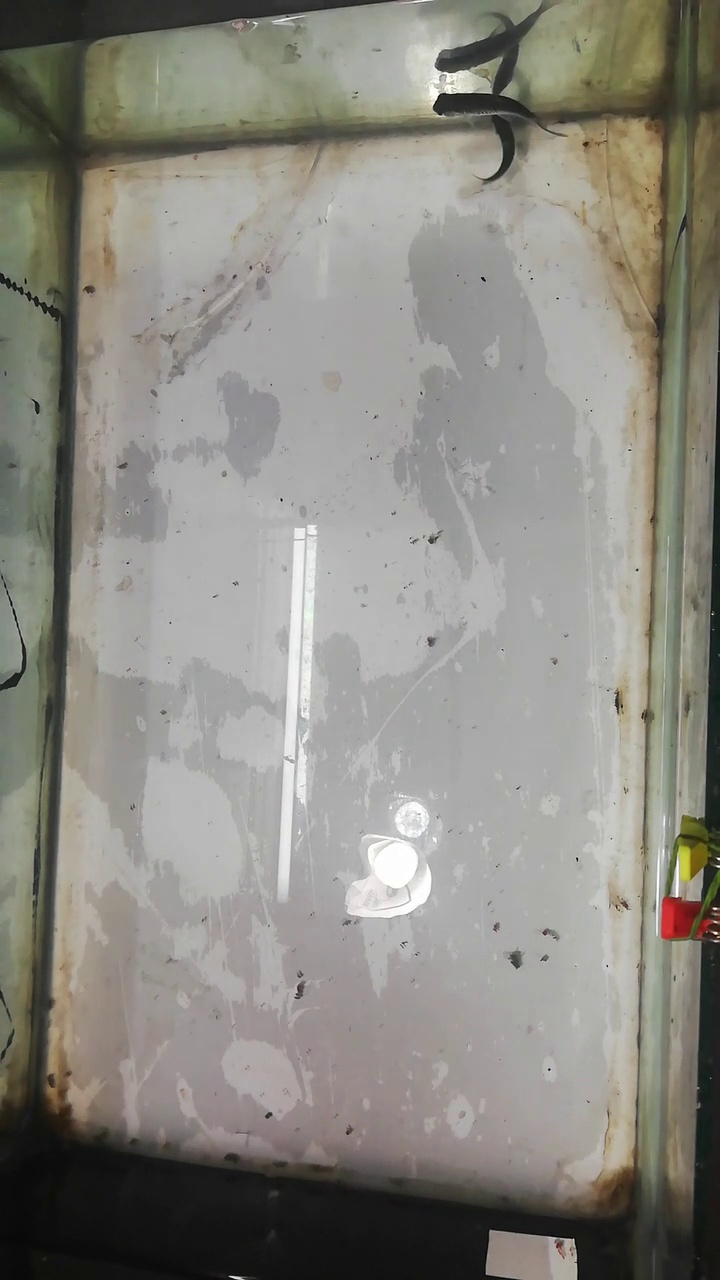fish1: (429, 93, 541, 122)
fish2: (484, 114, 514, 186)
